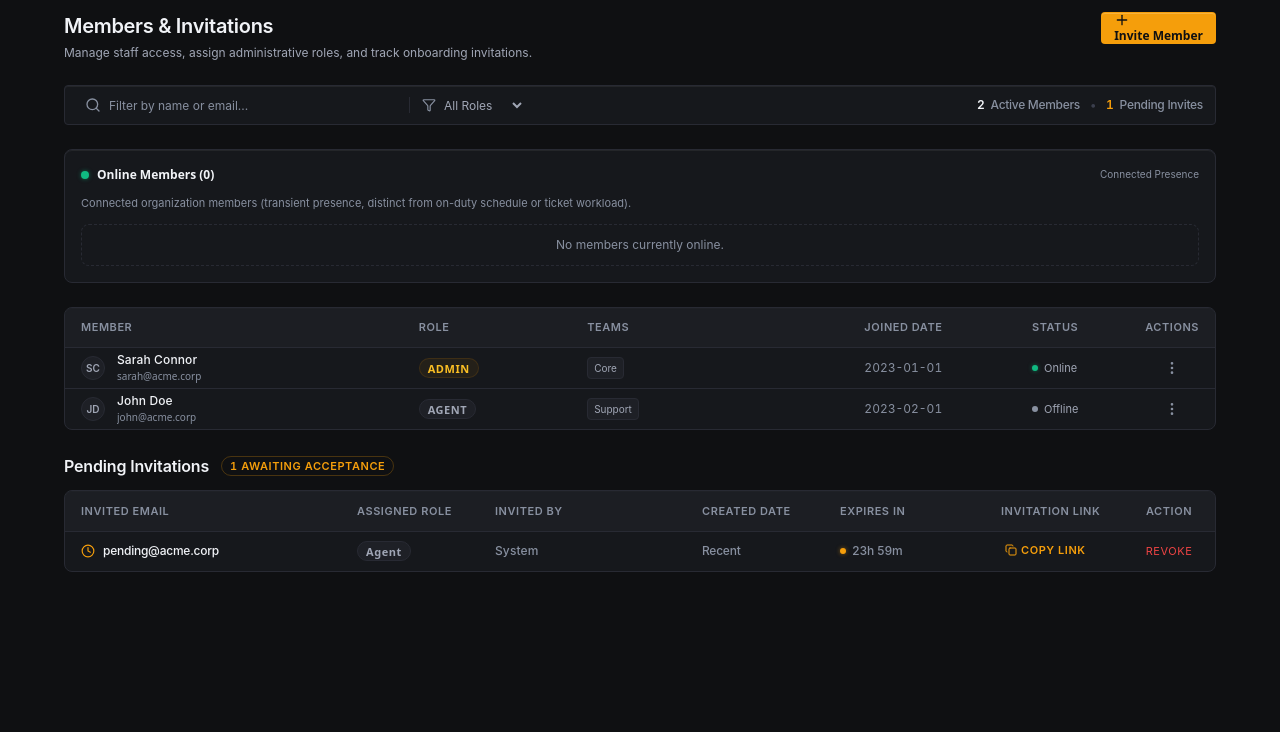
Test: MembersView Component › optimistically removes invitation record upon revocation
The width and height of the screenshot is (1280, 732).
Expected: the row with test id "invitation-row-101" is shown, [65, 531, 1215, 571]
# Trigger revocation
What coordinates should you click on to do the following:
click the button with test id "revoke-invitation-btn-101"
I would click on:
 (1169, 551)
Its box is [1142, 539, 1196, 563].
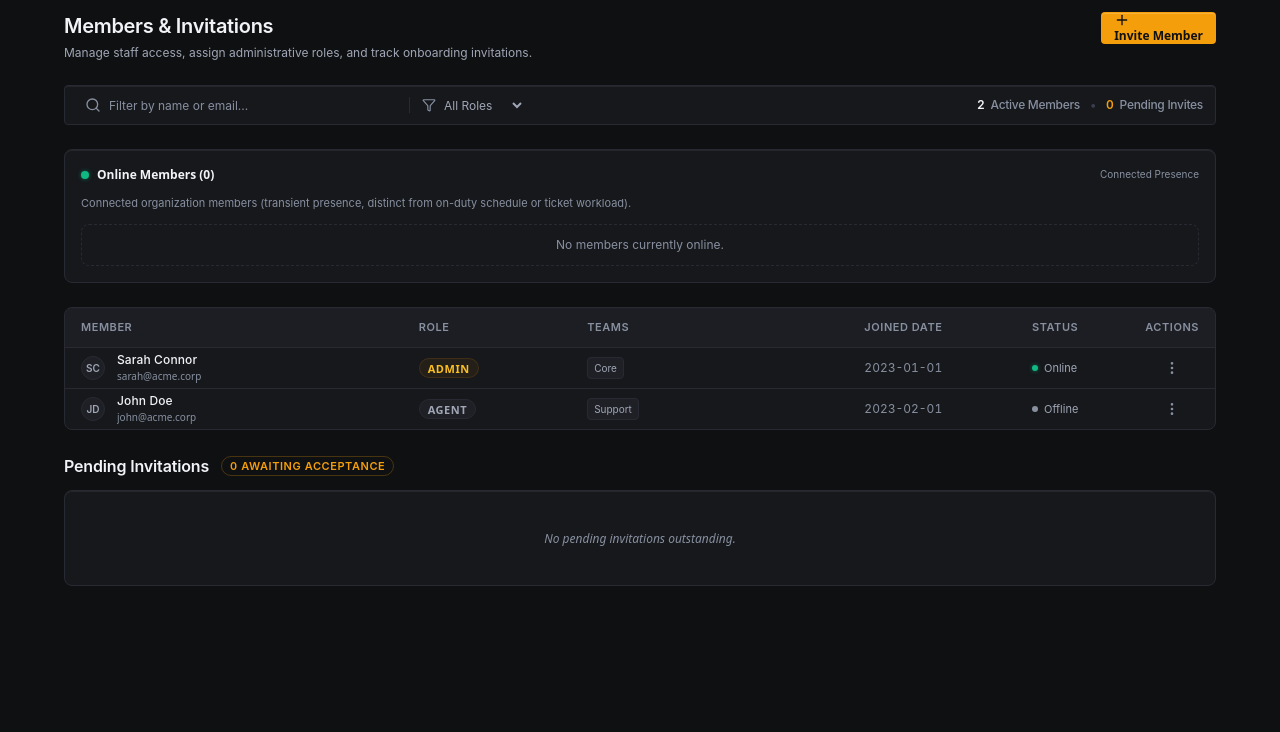
Expected: the row with test id "invitation-row-101" is gone
Expected: the text "No pending invitations outstanding." is shown, [64, 490, 1216, 586]
